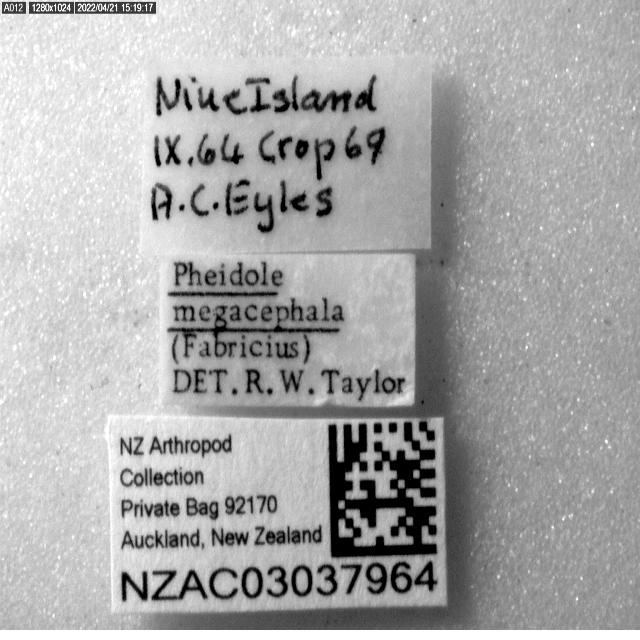hand_label: (141, 56, 431, 253)
typed_label: (109, 416, 446, 612), (160, 253, 415, 406)
